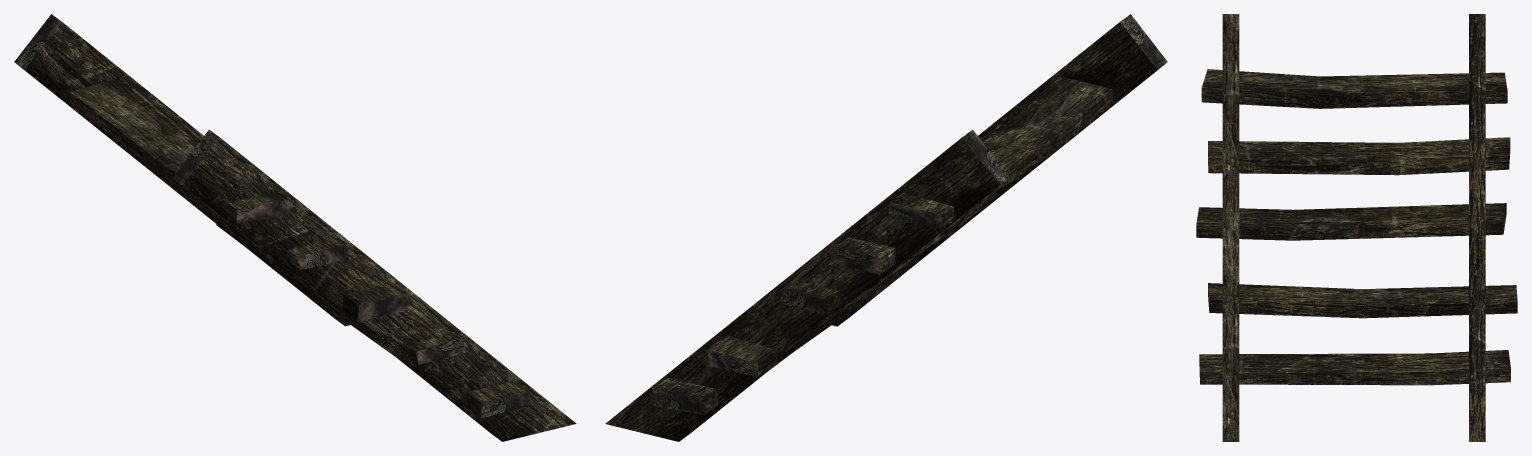
File: ex_de_docks_steps_01.obj
The picture shows the model from 3 angles, left to right: view 1: azimuth 30°, elevation 25°; view 2: azimuth 150°, elevation 25°; view 3: azimuth 270°, elevation 25°; orthographic projection. The views are drawn at different scales.
Parts seen in each view (by area): view 1: nifid_1-matrix_Tri_Ex_De_Docks_Steps_01_0-lib, nifid_6-matrix_Tri_Ex_De_Docks_Steps_01_1-lib; view 2: nifid_1-matrix_Tri_Ex_De_Docks_Steps_01_0-lib, nifid_6-matrix_Tri_Ex_De_Docks_Steps_01_1-lib; view 3: nifid_1-matrix_Tri_Ex_De_Docks_Steps_01_0-lib.
Part boxes in pixels (<box>): nifid_1-matrix_Tri_Ex_De_Docks_Steps_01_0-lib: <box>17,22,576,441</box>; nifid_6-matrix_Tri_Ex_De_Docks_Steps_01_1-lib: <box>14,14,530,418</box>; nifid_1-matrix_Tri_Ex_De_Docks_Steps_01_0-lib: <box>605,22,1164,441</box>; nifid_6-matrix_Tri_Ex_De_Docks_Steps_01_1-lib: <box>652,14,1167,414</box>; nifid_1-matrix_Tri_Ex_De_Docks_Steps_01_0-lib: <box>1196,14,1517,441</box>.
Size of the model in its own units: 4.38 by 3.96 by 3.96.
